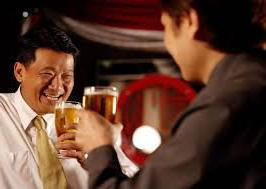Drunk: (36, 54, 75, 112)
